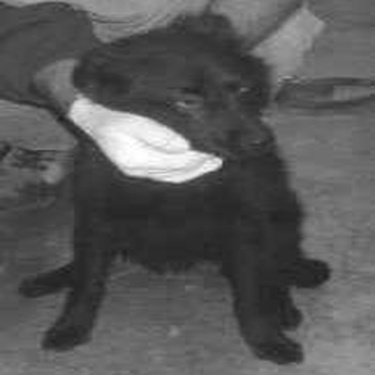dog: (15, 2, 333, 366)
